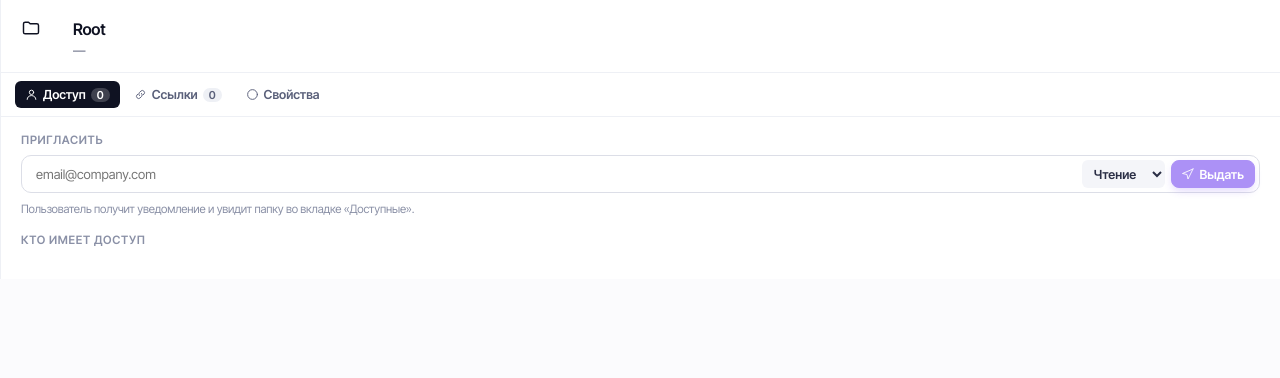
Test case: Inspector — links tab › shows active link status
Click the button "Ссылки 0" at (178, 94), box [124,81,232,108]
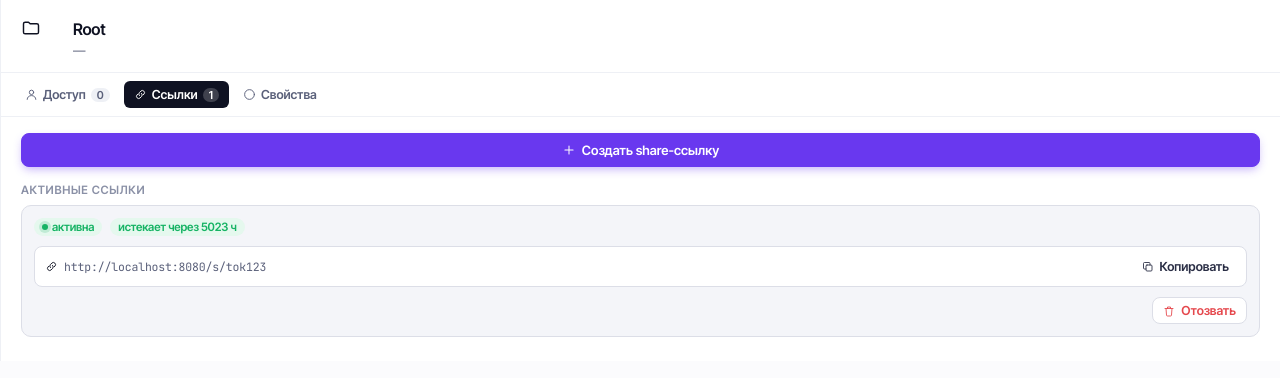
Expected: the text "активна" is shown, [34,218,102,236]
